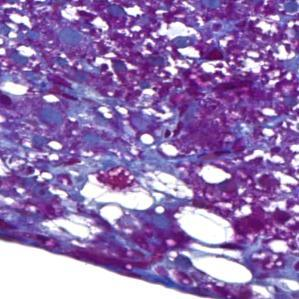ballooning: (82, 164, 154, 212), (169, 203, 235, 247)
